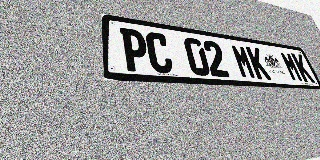0: (183, 37, 211, 76)
2: (202, 40, 230, 77)
C: (145, 31, 174, 74)
K: (245, 46, 272, 80), (291, 53, 315, 83)
M: (230, 44, 257, 79), (279, 51, 304, 82)
P: (120, 27, 150, 72)
